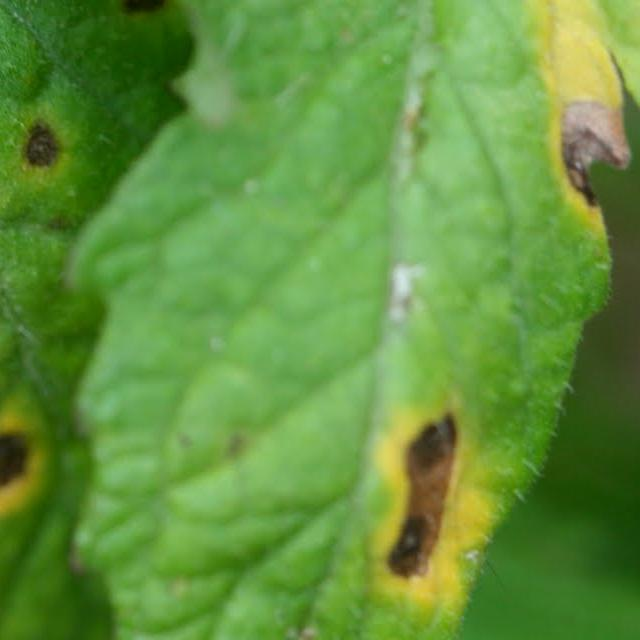Tomato leaf late blight: (33, 0, 640, 640), (0, 0, 254, 640)
